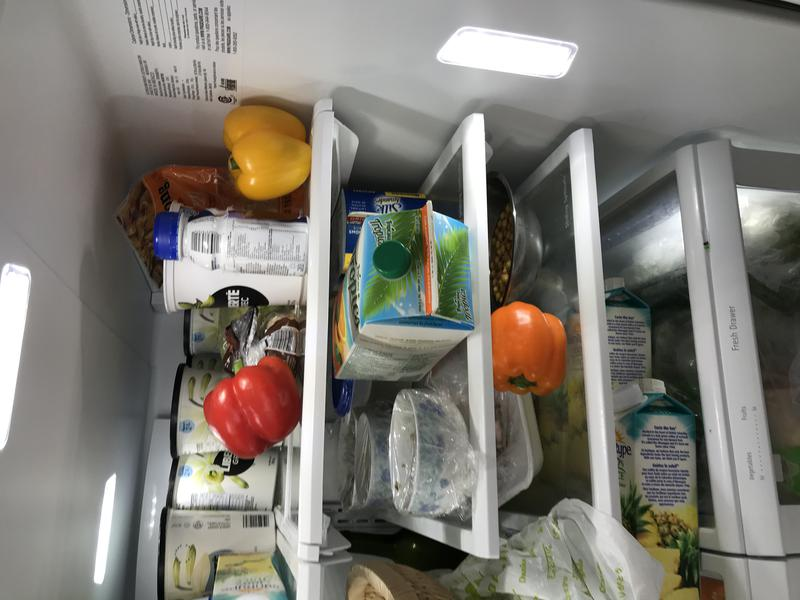orange_pepper: (478, 297, 569, 402)
red_pepper: (195, 346, 307, 460)
yellow_pepper: (216, 98, 316, 204)
